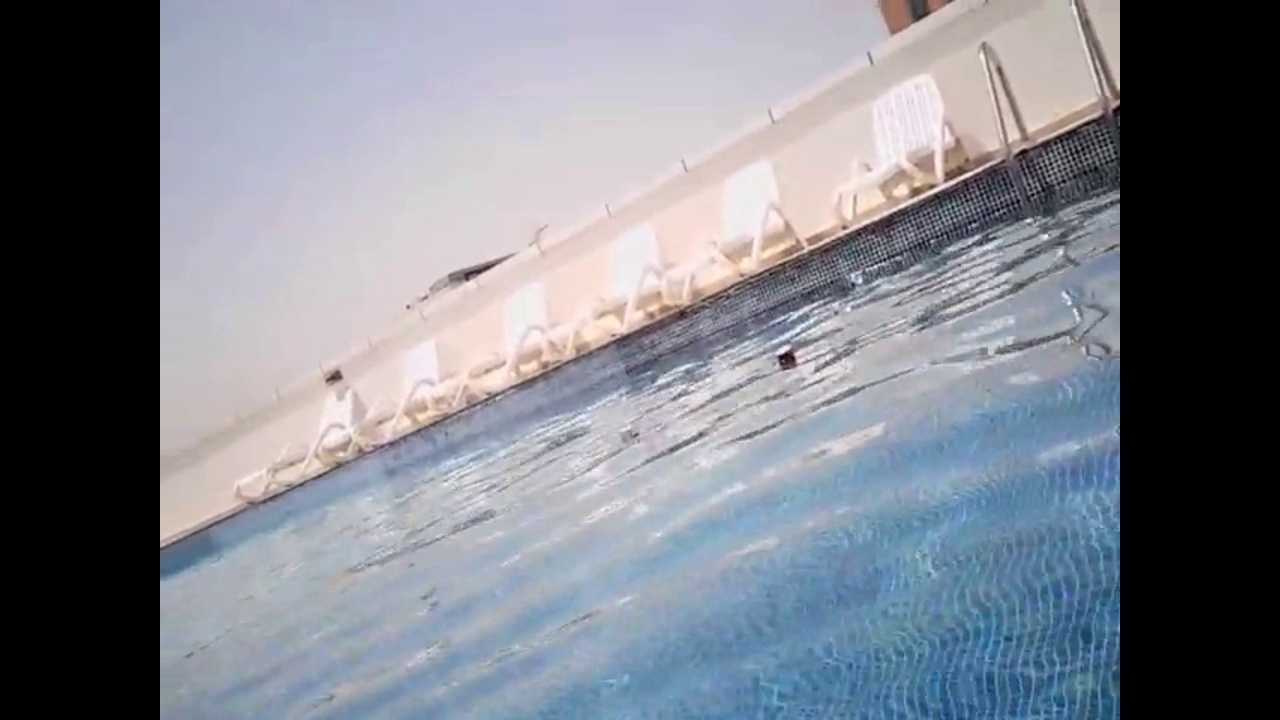debris: (769, 339, 799, 375), (615, 423, 643, 458), (826, 298, 855, 319), (844, 270, 865, 287)
